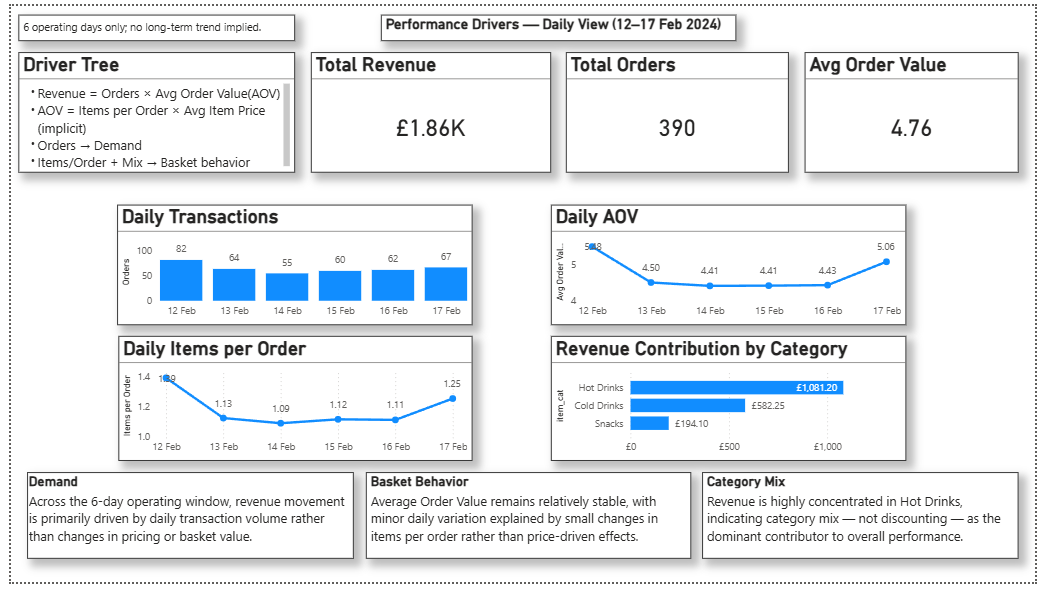

Layout of this report page (visuals, bound fields, positions):
{"tool":"powerbi","page":{"name":"Daily Drivers","canvas":[1280,720],"ordinal":2},"visuals":[{"type":"textbox","title":"Performance Drivers — Daily View (12–17 Feb 2024)","box":[462.5,10.9,443.8,32.8],"z":0},{"type":"textbox","box":[9.4,10.9,345.3,32.8],"z":1000},{"type":"textbox","title":"Driver Tree","box":[9.4,57.8,345.3,150],"z":2000},{"type":"clusteredColumnChart","title":"Daily Transactions ","fields":{"Category":["Calendar.Date"],"Y":["_Measures.Orders"]},"box":[132.8,248.4,443.8,150],"z":3000},{"type":"lineChart","title":"Daily AOV","fields":{"Category":["Calendar.Date"],"Y":["_Measures.Avg Order Value"]},"box":[675,248.4,443.8,150],"z":4000},{"type":"lineChart","title":"Daily Items per Order","fields":{"Category":["Calendar.Date"],"Y":["_Measures.Items per Order"]},"box":[134.4,412.5,442.2,156.2],"z":5000},{"type":"clusteredBarChart","title":"Revenue Contribution by Category","fields":{"Category":["coffee v_sales_typed.item_cat"],"Y":["_Measures.Total Revenue"]},"box":[675,412.5,443.8,156.2],"z":6000},{"type":"card","title":"Total Revenue","fields":{"Values":["_Measures.Total Revenue"]},"box":[374.5,57.8,300,150],"z":7000},{"type":"card","title":"Total Orders","fields":{"Values":["_Measures.Orders"]},"box":[694.3,57.8,278.1,150],"z":8000},{"type":"card","title":"Avg Order Value","fields":{"Values":["_Measures.Avg Order Value"]},"box":[992.2,57.8,267.2,150],"z":9000},{"type":"textbox","title":"Demand","box":[20.3,582.8,407.8,107.8],"z":10000},{"type":"textbox","title":"Basket Behavior","box":[443,582.8,406.2,107.8],"z":11000},{"type":"textbox","title":"Category Mix","box":[864.1,582.8,395.3,107.8],"z":12000}]}

Visuals, with their boxes in screenshot pixels (x1, y1, x2, y2), scaled from the page's 1280x720 canvas onto the 1051x591 screenshot:
"Performance Drivers — Daily View (12–17 Feb 2024)" textbox: detection(380, 9, 744, 36)
textbox: detection(8, 9, 291, 36)
"Driver Tree" textbox: detection(8, 47, 291, 171)
"Daily Transactions " clusteredColumnChart: detection(109, 204, 473, 327)
"Daily AOV" lineChart: detection(554, 204, 919, 327)
"Daily Items per Order" lineChart: detection(110, 339, 473, 467)
"Revenue Contribution by Category" clusteredBarChart: detection(554, 339, 919, 467)
"Total Revenue" card: detection(307, 47, 554, 171)
"Total Orders" card: detection(570, 47, 798, 171)
"Avg Order Value" card: detection(815, 47, 1034, 171)
"Demand" textbox: detection(17, 478, 352, 567)
"Basket Behavior" textbox: detection(364, 478, 697, 567)
"Category Mix" textbox: detection(710, 478, 1034, 567)
